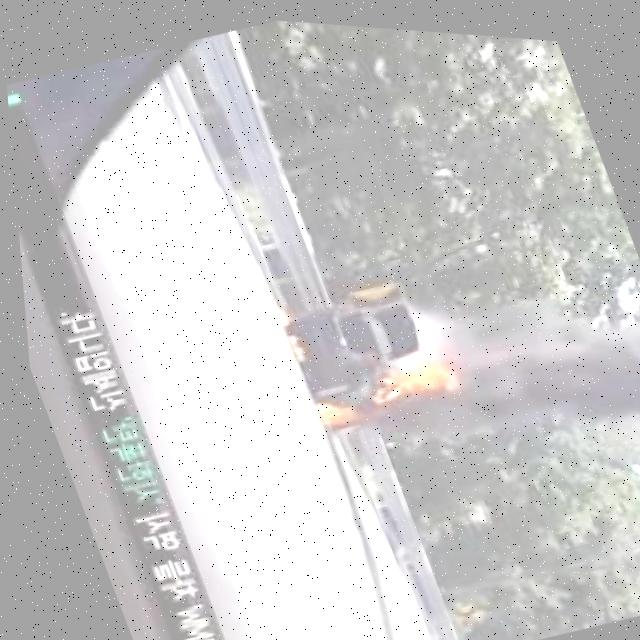Fire: (296, 343, 439, 432)
Smoke: (398, 227, 640, 499)
